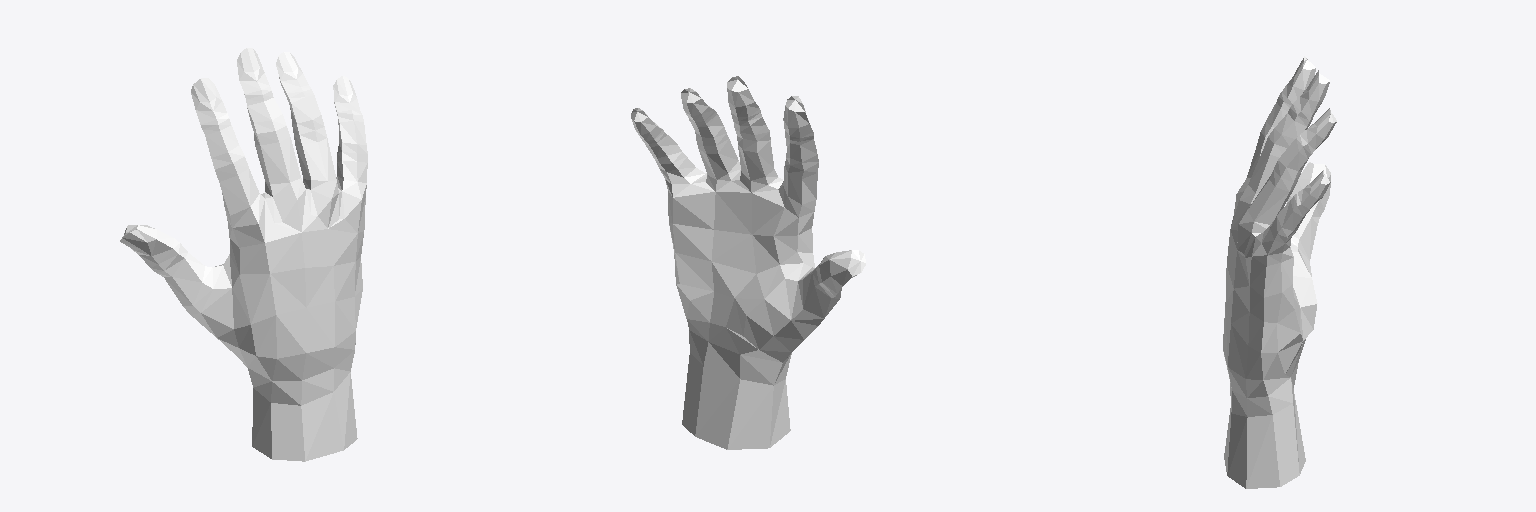
Rendered from hands.obj.
3 renders of one model, left to right at view 1: azimuth 30°, elevation 25°; view 2: azimuth 150°, elevation 25°; view 3: azimuth 270°, elevation 25°, orthographic.
Visible parts, largest first — view 1: Plane005.002; view 2: Plane005.002; view 3: Plane005.002.
Part boxes in pixels (left/top/right/bottom): Plane005.002: left=120, top=48, right=367, bottom=461; Plane005.002: left=631, top=76, right=865, bottom=449; Plane005.002: left=1223, top=56, right=1336, bottom=488.
Bounding box in the file's own units: 0.6577 × 1.04 × 0.2811.